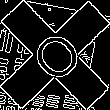O_SE: (22, 22, 88, 88)
